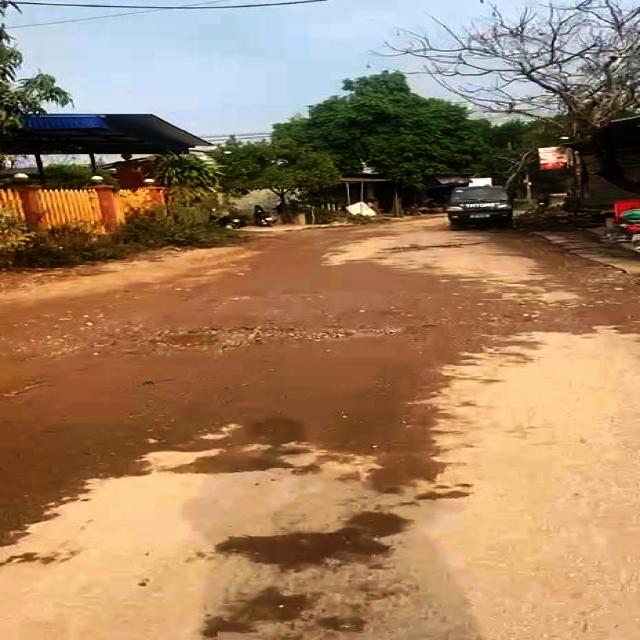pothole: (139, 325, 404, 354)
